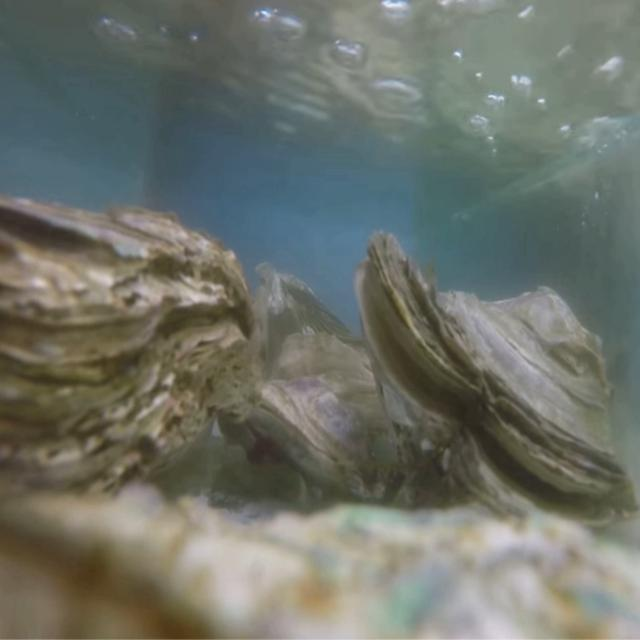Oyster-Closed: (0, 196, 255, 526), (254, 334, 423, 508)
Oyster-Indeterminate: (0, 484, 640, 640), (254, 261, 370, 377)
Oyster-Open: (356, 228, 640, 540)
